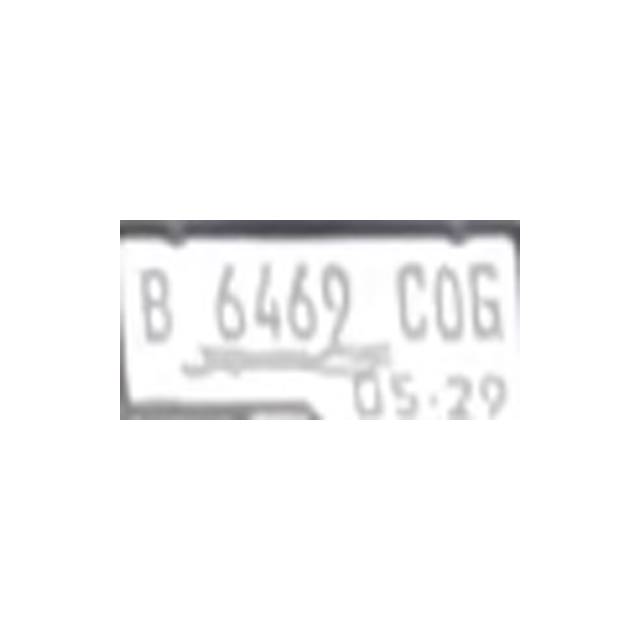contain: (137, 255, 177, 357), (211, 247, 251, 349), (246, 247, 286, 349), (281, 246, 321, 348), (315, 249, 355, 351), (393, 244, 433, 346), (429, 245, 469, 347), (466, 244, 506, 346)
